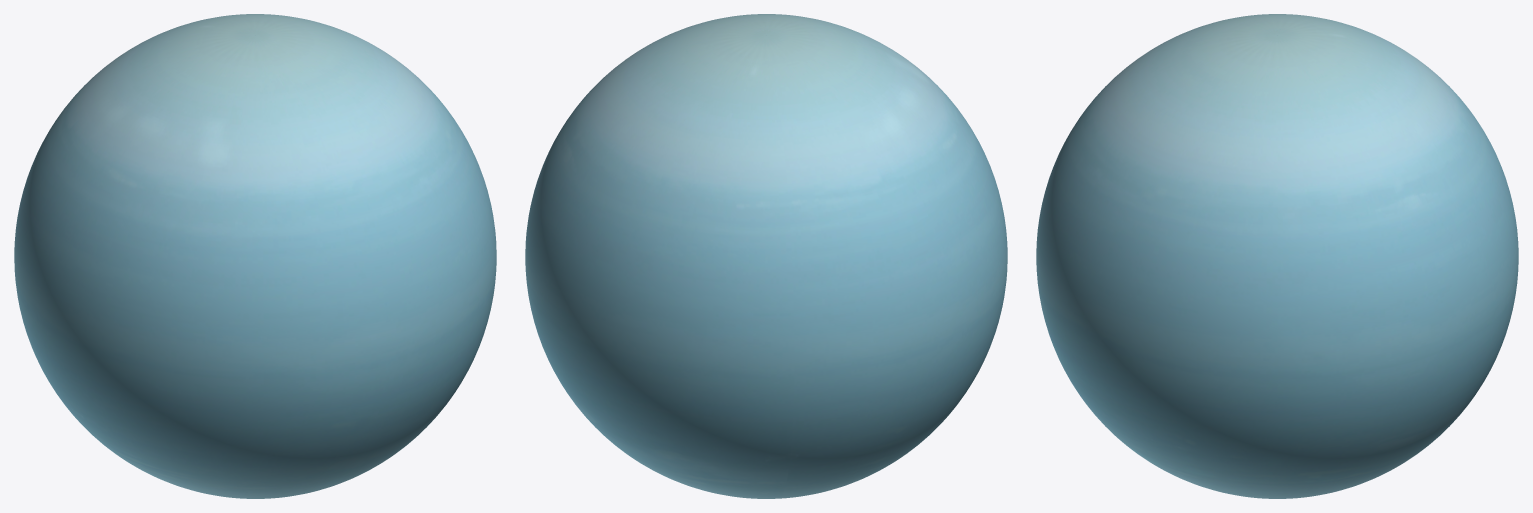
Rendered from uranus.fbx.
3 views of the same model, side by side, from view 1: azimuth 30°, elevation 25°; view 2: azimuth 150°, elevation 25°; view 3: azimuth 270°, elevation 25° (orthographic).
Visible parts, largest first — view 1: uranus; view 2: uranus; view 3: uranus.
Part boxes in pixels (x1,y1,x2,y2): uranus: (14, 14, 496, 498); uranus: (525, 14, 1007, 498); uranus: (1036, 14, 1518, 498).
Bounding box in the file's own units: 329 × 333 × 329.
1 material, 1 textured.
